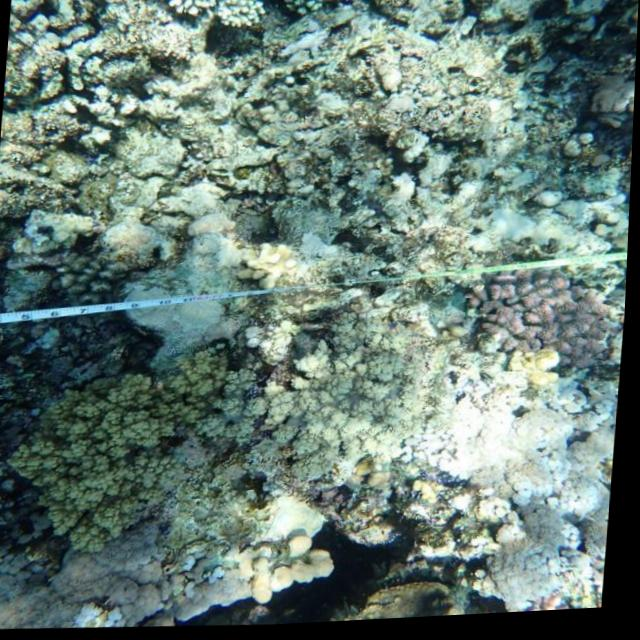Bleached Coral: (413, 349, 625, 622), (256, 304, 451, 491), (158, 0, 265, 32), (172, 553, 229, 606), (80, 599, 132, 630)
Healthy Coral: (9, 337, 233, 556), (479, 264, 627, 376)
